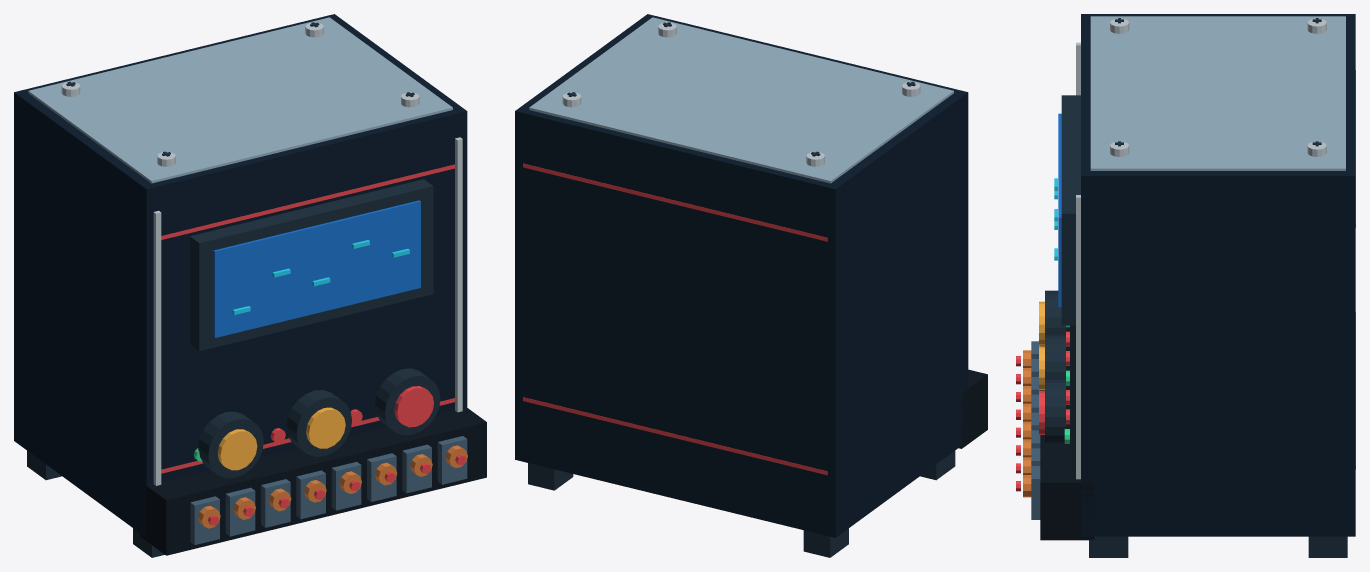
The model's file is 54_L75_BeamPowerIsolationController.fbx.
3 views of the same model, side by side, from view 1: azimuth 30°, elevation 25°; view 2: azimuth 150°, elevation 25°; view 3: azimuth 270°, elevation 25° (orthographic). The views are drawn at different scales.
Visible parts, largest first — view 1: BeamPowerIsolationController; view 2: BeamPowerIsolationController; view 3: BeamPowerIsolationController.
Part boxes in pixels (x1=…): BeamPowerIsolationController: x1=14, y1=14, x2=486, y2=557; BeamPowerIsolationController: x1=515, y1=14, x2=987, y2=557; BeamPowerIsolationController: x1=1016, y1=14, x2=1355, y2=557.
Size of the model in its own units: 127 by 146 by 113.
